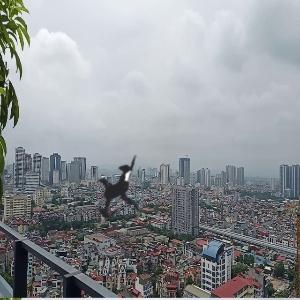drone: (64, 132, 182, 250)
